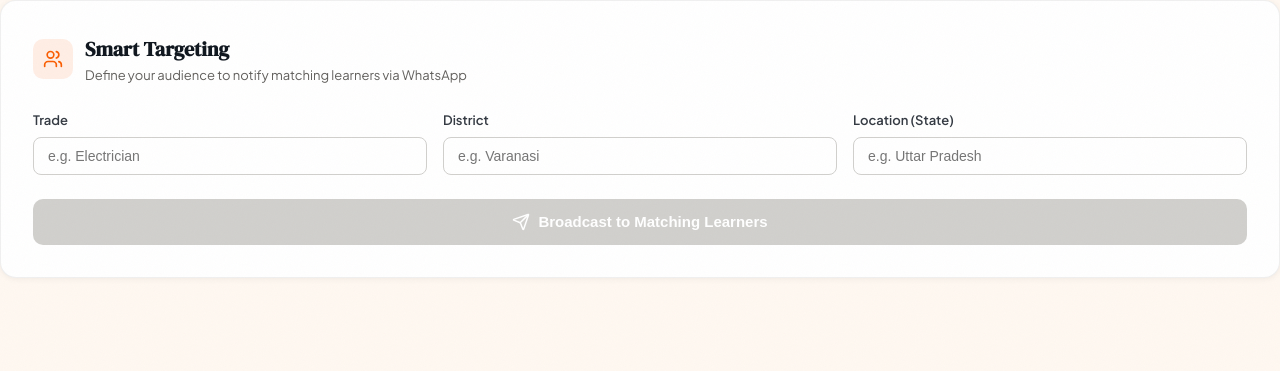
Test: SmartTargetingPanel - Zero Match Warning › displays zero-match warning when preview count is 0
Type into trade to activate filters (triggers the preview display)
Step 1. Type "Welder" into the field with placeholder "e.g. Electrician" → (230, 156), box [33,137,427,175]
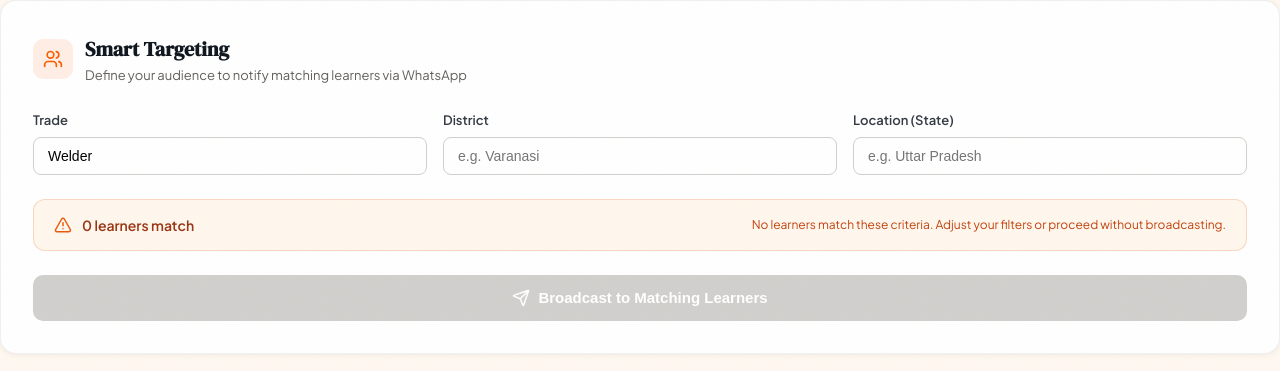
Check: the text "0 learners match" is shown, box [82,214,194,236]
